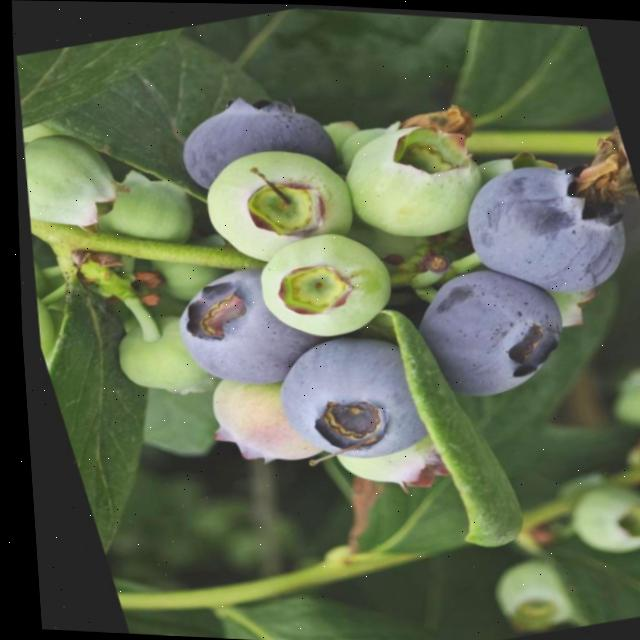RipeBlueBerry: (447, 139, 640, 310), (253, 317, 432, 475), (397, 251, 577, 407)
UnripeBlueBerry: (312, 90, 501, 253), (233, 209, 403, 349), (14, 121, 123, 245)
